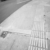zebra: (1, 19, 39, 47)
